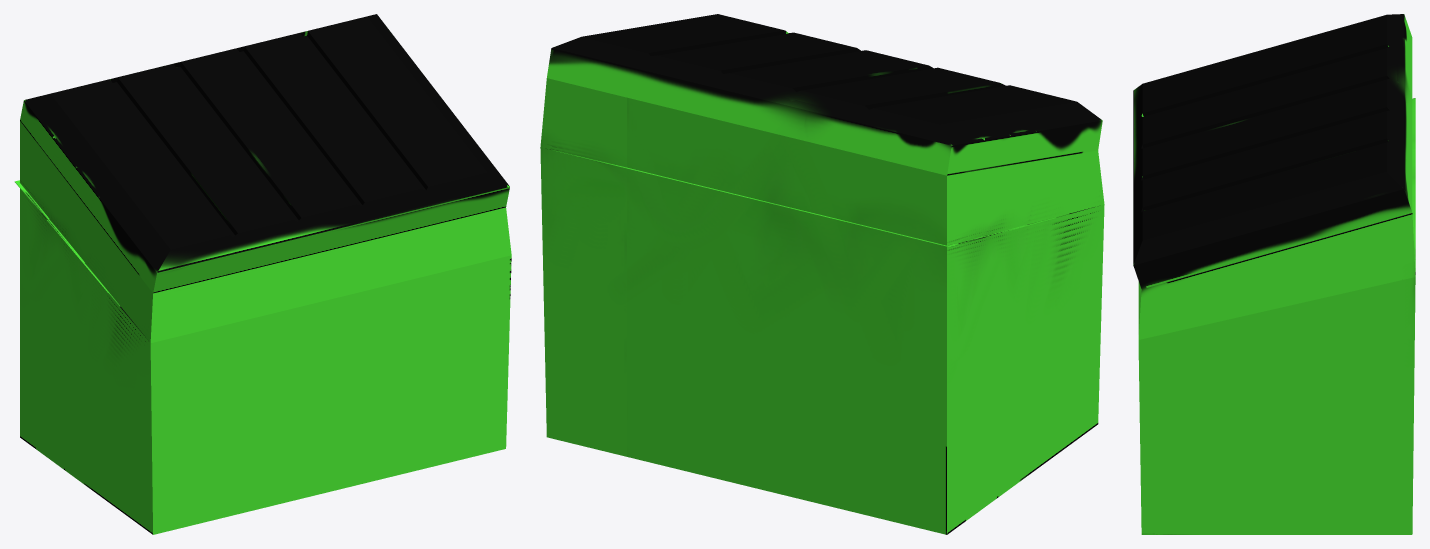
The model's file is trash.fbx.
3 renders of one model, left to right at view 1: azimuth 30°, elevation 25°; view 2: azimuth 150°, elevation 25°; view 3: azimuth 270°, elevation 25°, orthographic. The views are drawn at different scales.
Parts seen in each view (by area): view 1: Cube; view 2: Cube; view 3: Cube.
Boxes of the visible parts, box(x1,y1,x2,y2) form: Cube: box(14, 14, 511, 534); Cube: box(540, 14, 1104, 534); Cube: box(1133, 14, 1415, 534).
Bounding box in the file's own units: 208 × 313 × 289.
1 material, 1 textured.
